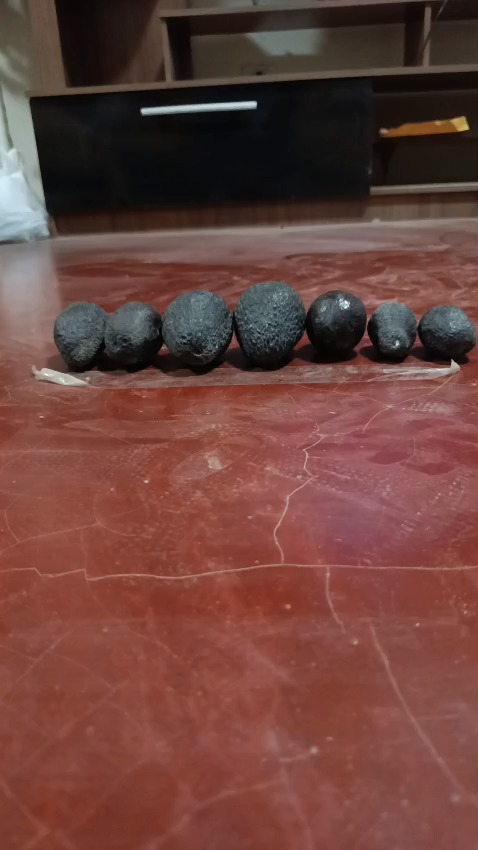Primera: (233, 280, 307, 369), (161, 289, 230, 368)
Segunda: (306, 289, 367, 359), (103, 301, 162, 369), (53, 301, 108, 371)
Tercera: (417, 304, 475, 361), (368, 302, 418, 360)
